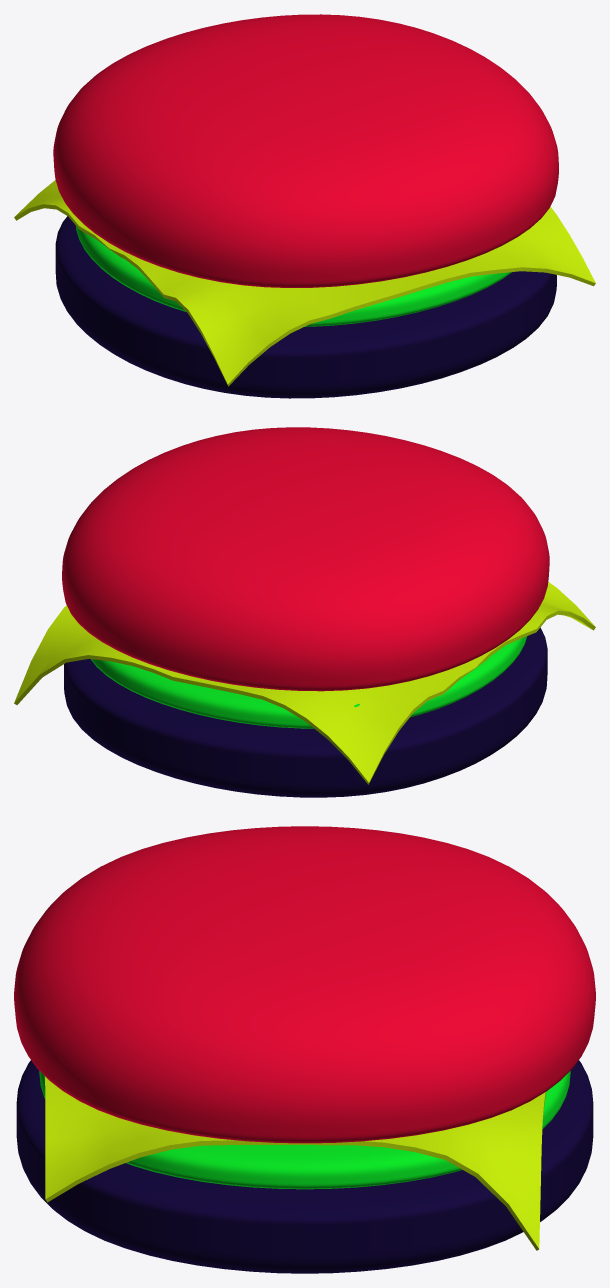
The model's file is hamburger.glb.
3 renders of one model, top to bottom at view 1: azimuth 30°, elevation 25°; view 2: azimuth 150°, elevation 25°; view 3: azimuth 270°, elevation 25°, orthographic. The views are drawn at different scales.
Parts seen in each view (by area): view 1: Cube.002, Cube, Plane, Cube.001; view 2: Cube.002, Cube, Plane, Cube.001; view 3: Cube.002, Cube, Plane, Cube.001.
Part boxes in pixels (<box>): Cube.002: <box>53,14,558,287</box>; Cube: <box>55,216,556,398</box>; Plane: <box>14,180,595,386</box>; Cube.001: <box>75,225,512,326</box>; Cube.002: <box>62,427,549,691</box>; Cube: <box>64,627,547,797</box>; Plane: <box>14,582,595,784</box>; Cube.001: <box>91,636,527,728</box>; Cube.002: <box>14,826,595,1143</box>; Cube: <box>16,1060,593,1273</box>; Plane: <box>45,1076,546,1250</box>; Cube.001: <box>39,1071,570,1189</box>.
Bounding box in the file's own units: 9.23 × 4.99 × 9.23.
